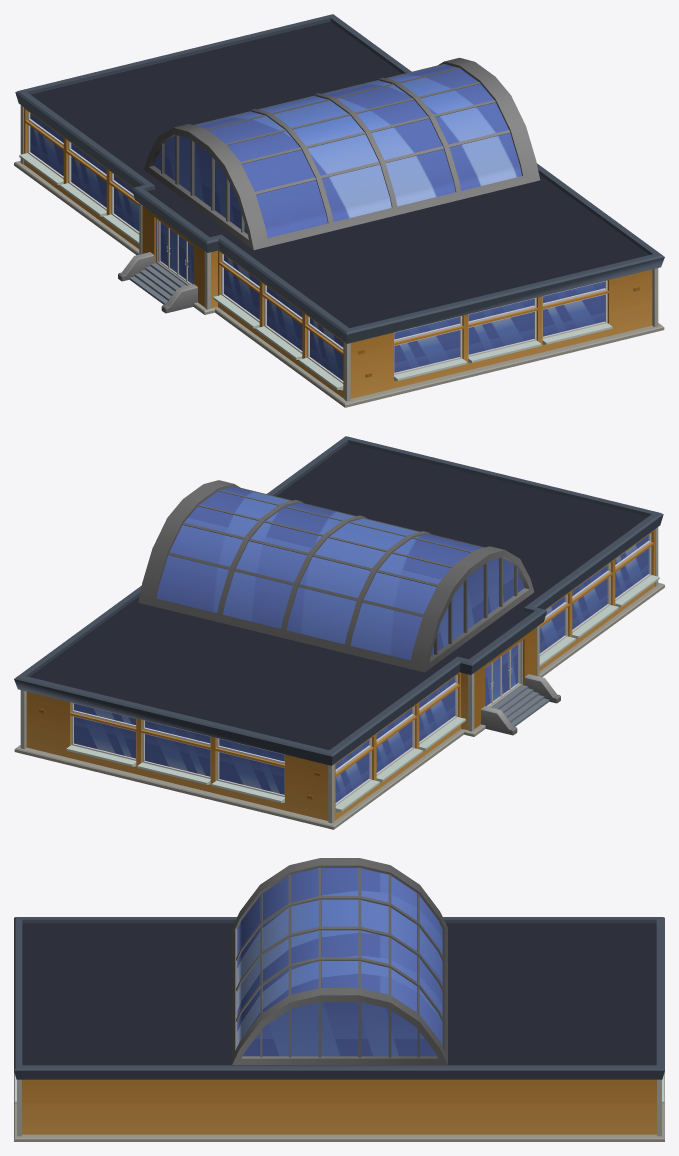
File: Building_16_2_B.fbx
The picture shows the model from 3 angles, top to bottom: view 1: azimuth 30°, elevation 25°; view 2: azimuth 150°, elevation 25°; view 3: azimuth 270°, elevation 25°; orthographic projection.
Parts seen in each view (by area): view 1: Building_16_2_B; view 2: Building_16_2_B; view 3: Building_16_2_B.
Part boxes in pixels (left/top/right/bottom): Building_16_2_B: left=14, top=14, right=664, bottom=407; Building_16_2_B: left=14, top=436, right=664, bottom=829; Building_16_2_B: left=14, top=858, right=664, bottom=1141.
Size of the model in its own units: 1888 by 718 by 3026.
